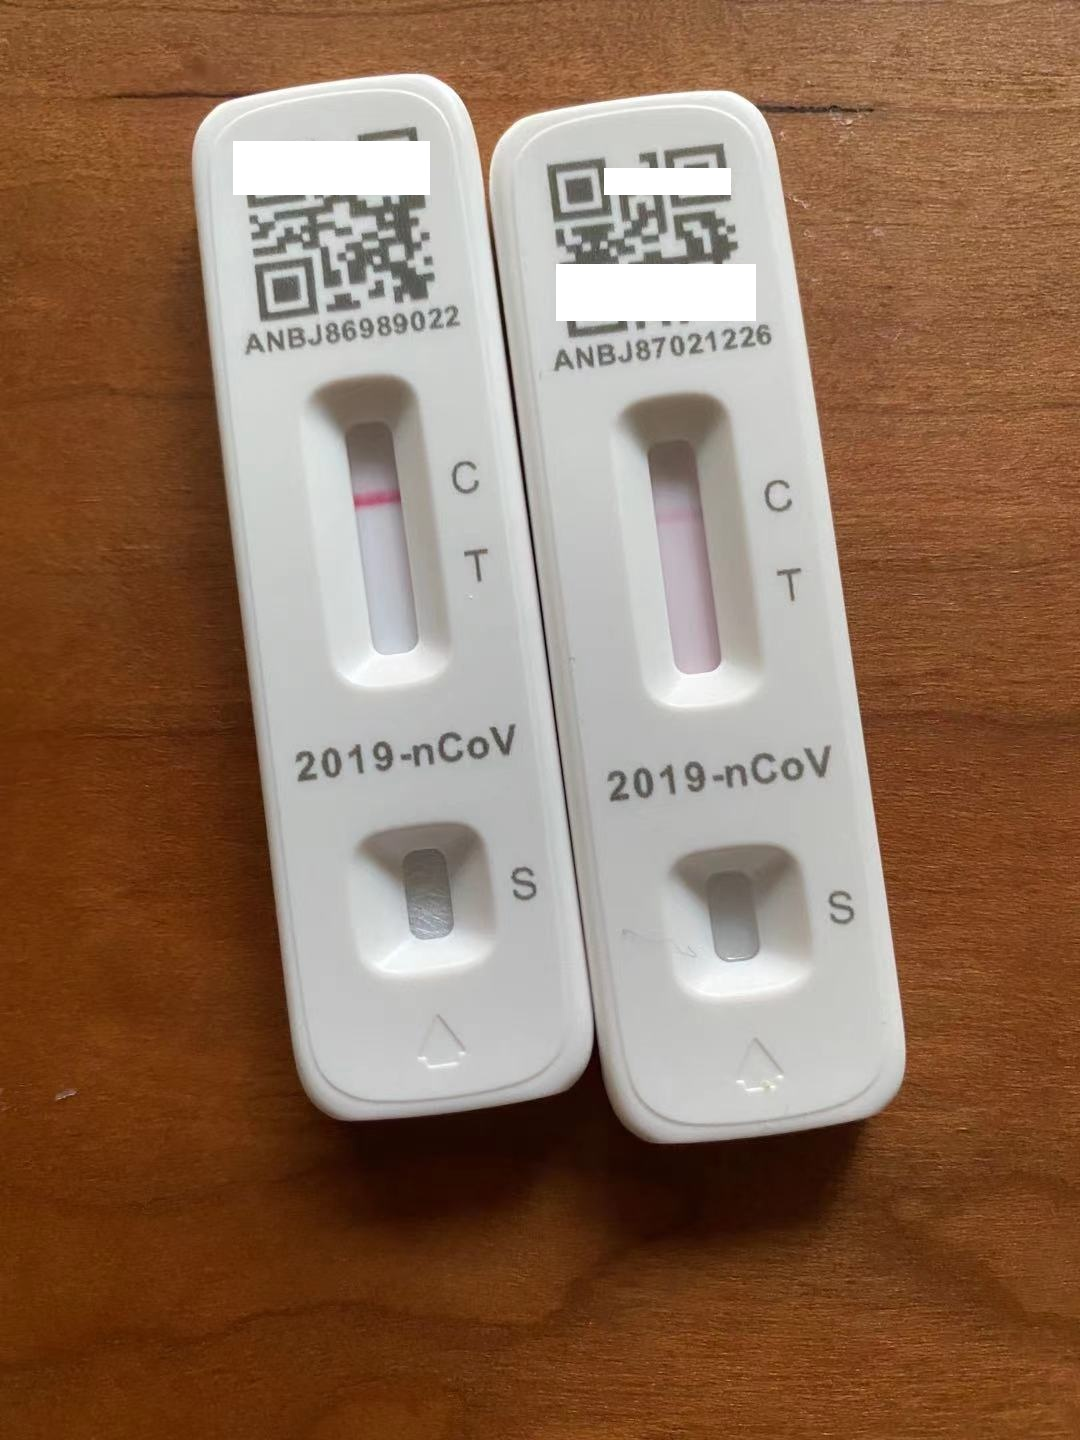negative: (312, 376, 442, 700), (621, 395, 749, 720)
